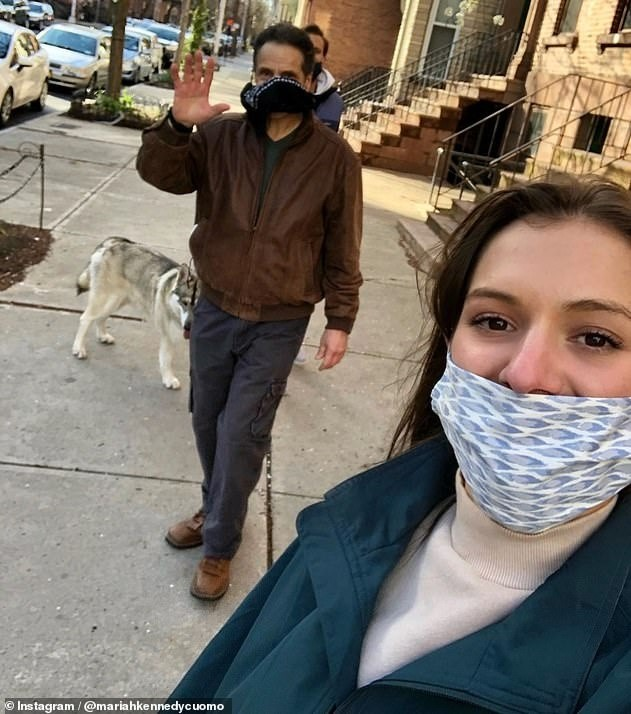face_with_mask: (428, 177, 630, 532)
